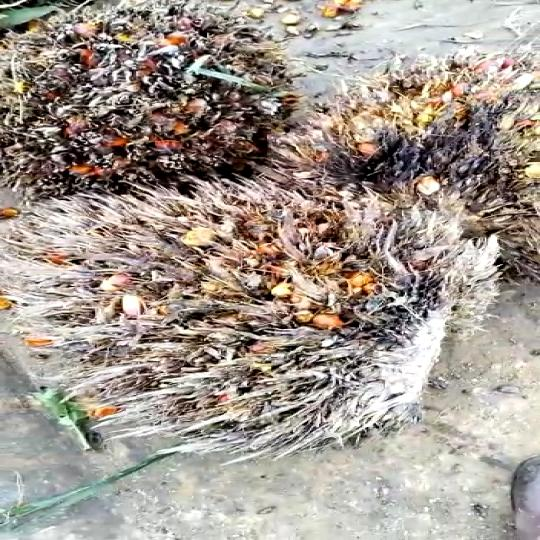terlalu masak: (0, 190, 500, 459), (0, 0, 268, 183)
